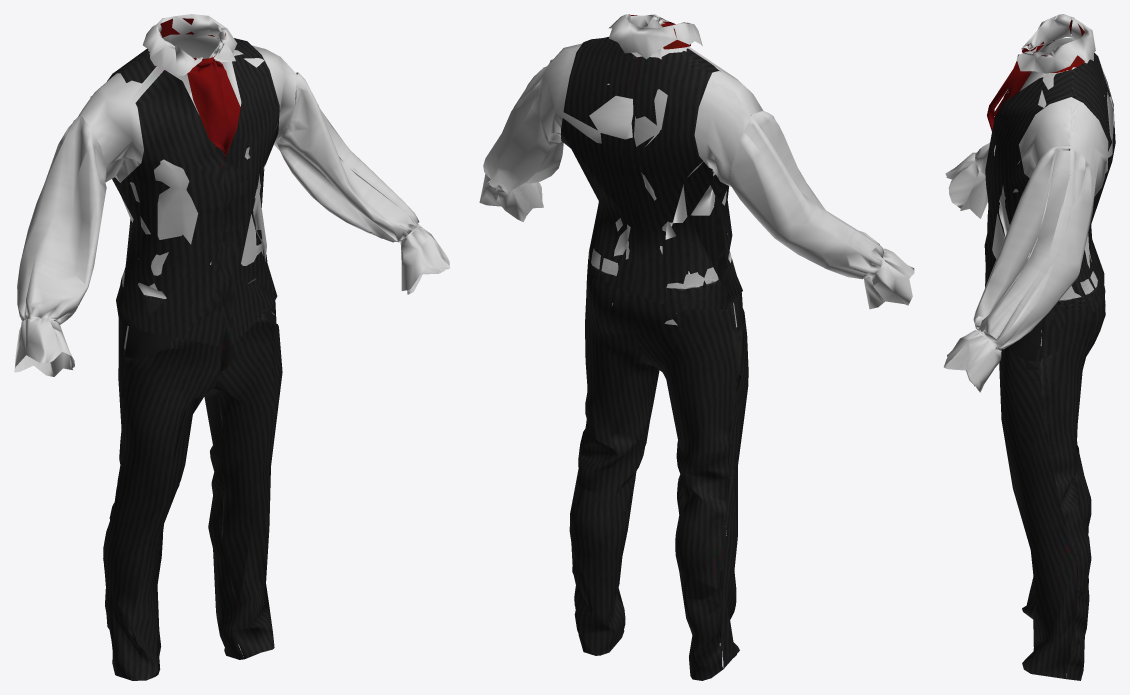
Rendered from ppl_vic.glb.
3 views of the same model, side by side, from view 1: azimuth 30°, elevation 25°; view 2: azimuth 150°, elevation 25°; view 3: azimuth 270°, elevation 25° (orthographic). The views are drawn at different scales.
Parts seen in each view (by area): view 1: aristo; view 2: aristo; view 3: aristo.
Boxes of the visible parts, x1,y1,x2,y2 form: aristo: (14,14,450,680); aristo: (479,14,914,680); aristo: (944,14,1115,680).
Size of the model in its own units: 1.06 by 1.52 by 0.38.
1 material, 1 textured.
